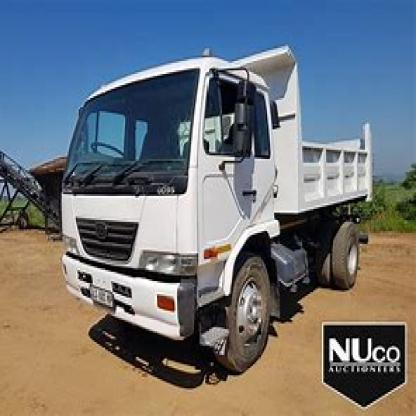dump_truck: (55, 41, 406, 372)
